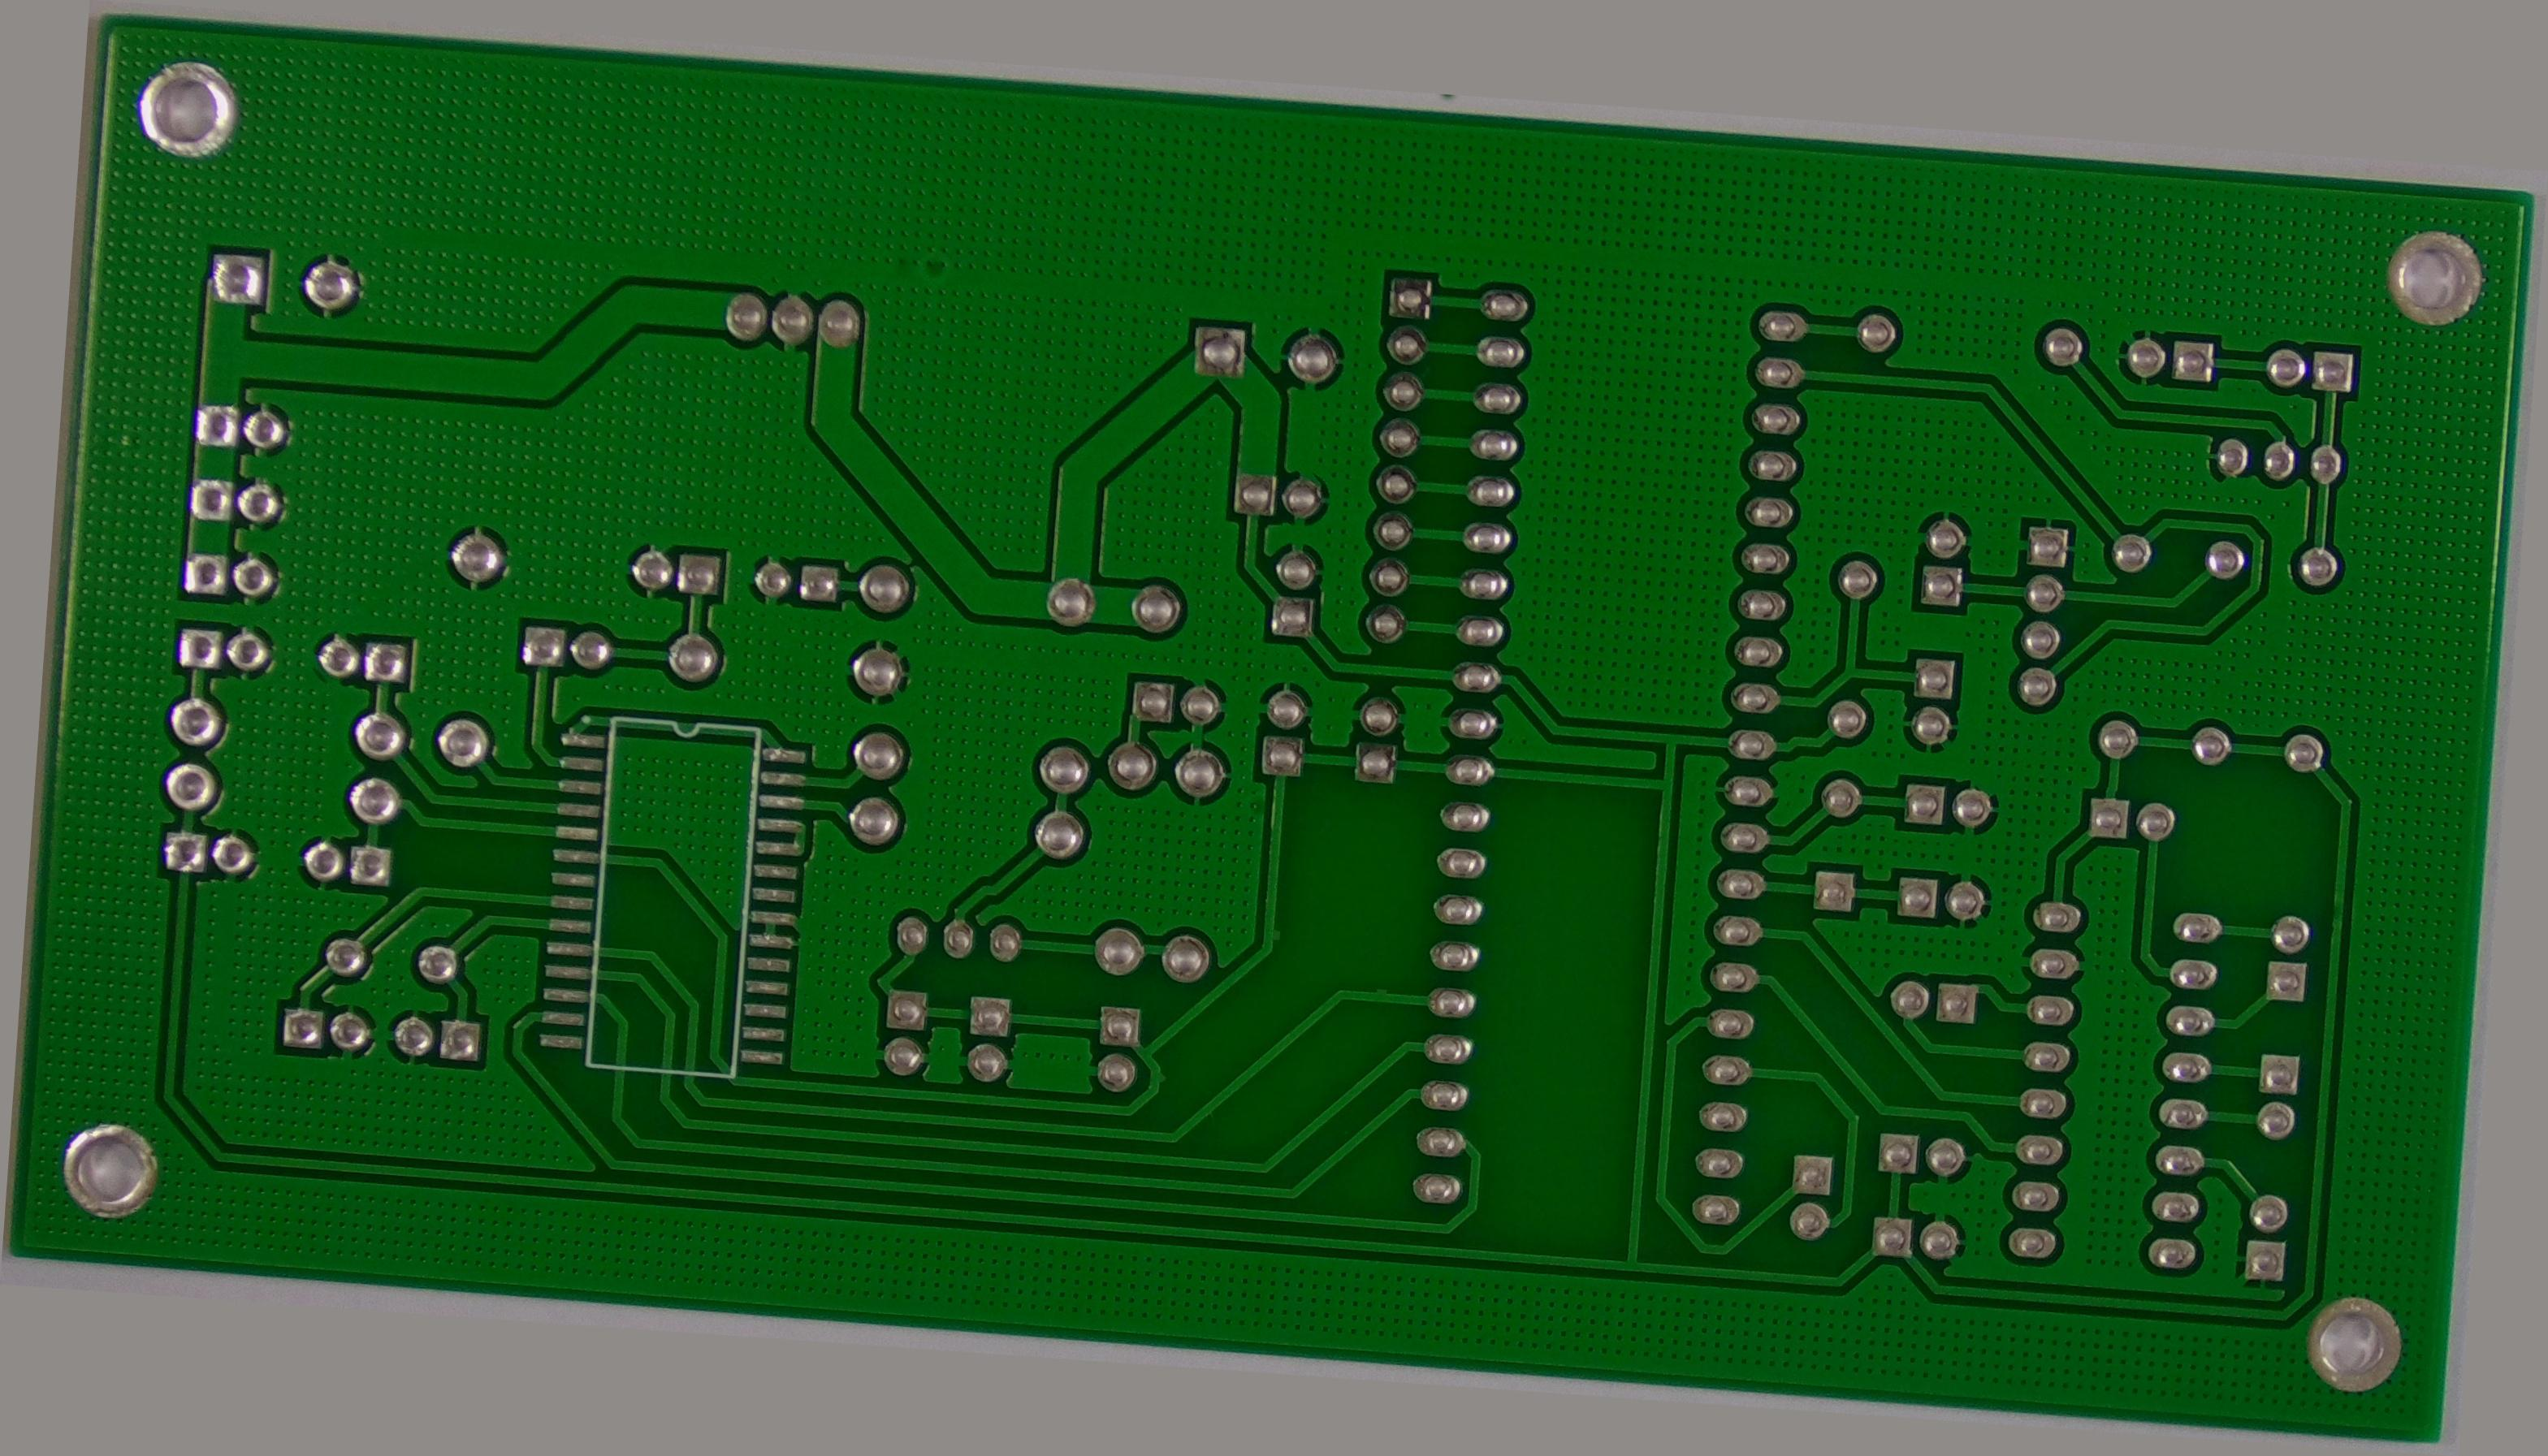spur: (1256, 919, 1286, 950), (1365, 976, 1395, 1003)
